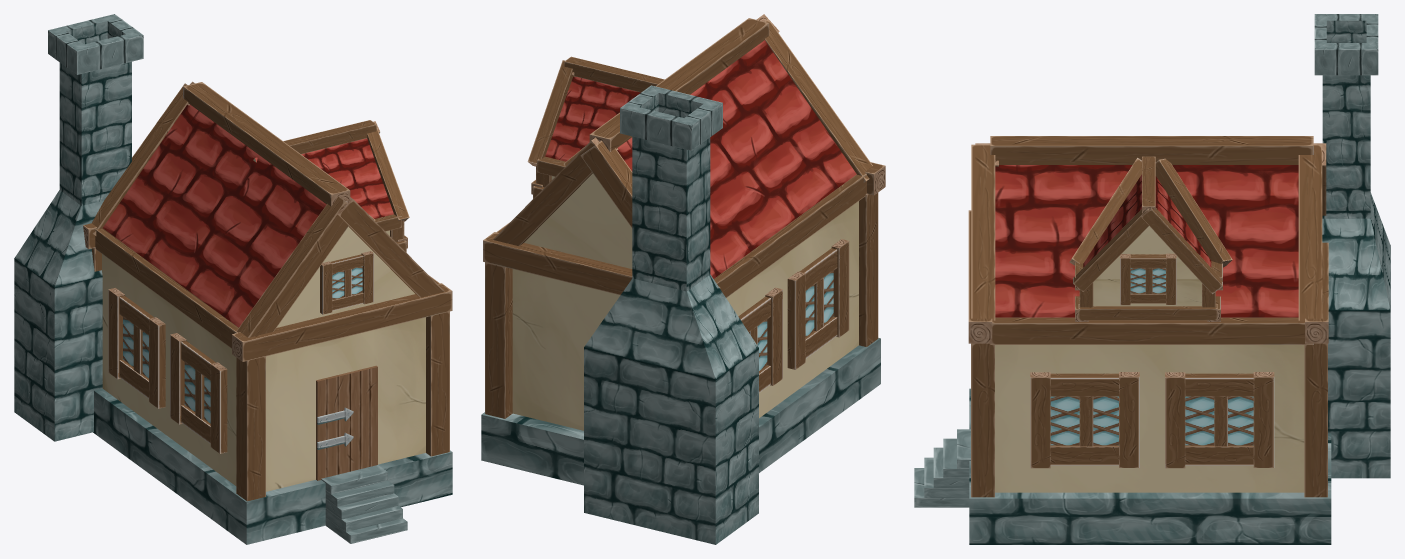
The model's file is HouseVar1.fbx.
The picture shows the model from 3 angles, left to right: view 1: azimuth 30°, elevation 25°; view 2: azimuth 150°, elevation 25°; view 3: azimuth 270°, elevation 25°; orthographic projection. The views are drawn at different scales.
Parts seen in each view (by area): view 1: Cube.045; view 2: Cube.045; view 3: Cube.045.
Part boxes in pixels (bbox=[...]): Cube.045: bbox=[14, 14, 452, 544]; Cube.045: bbox=[481, 14, 885, 544]; Cube.045: bbox=[914, 14, 1390, 544].
Bounding box in the file's own units: 217 × 309 × 321.
